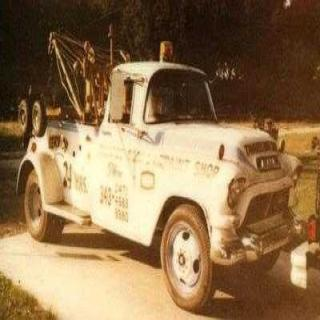Towing_truck: (15, 27, 304, 313)
